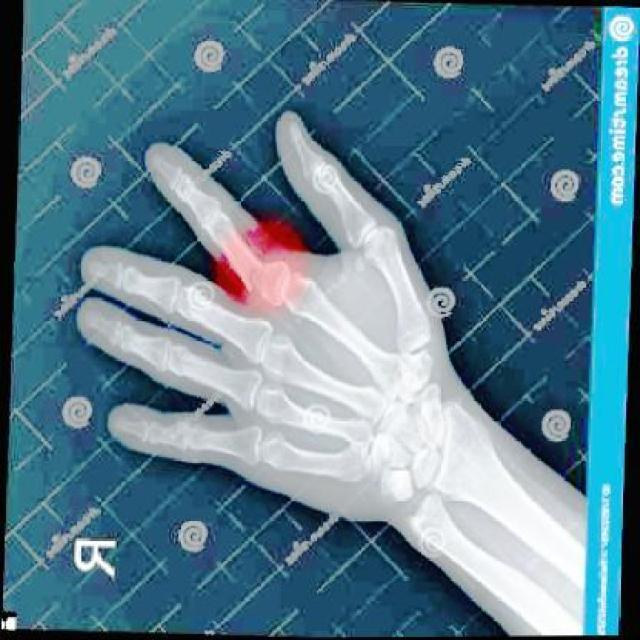Fracture: (226, 249, 277, 302)
